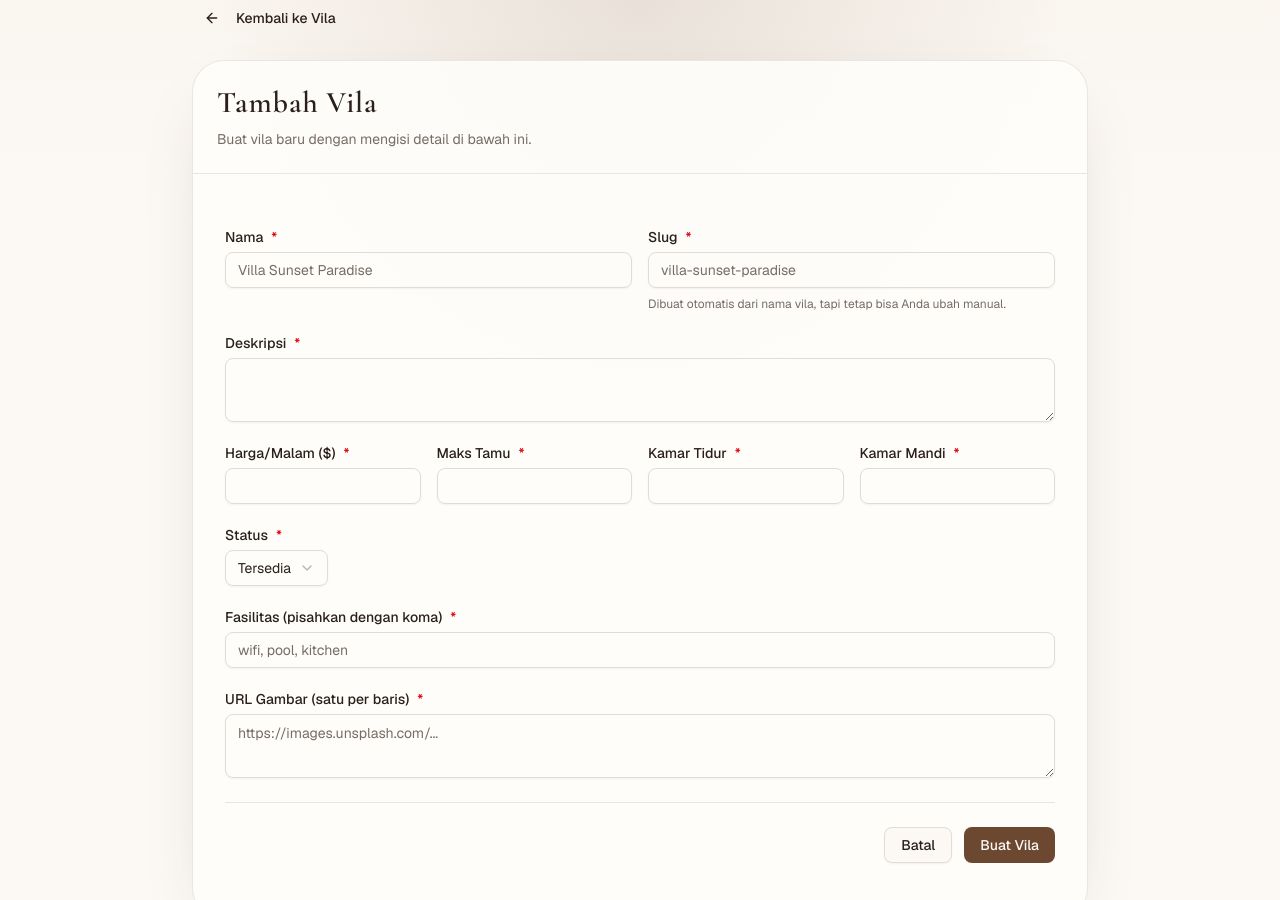
Test: VillaForm › shows feedback when submit is invalid
This screenshot has width=1280, height=900.
Step 1. Click the button "Buat Vila" → (1010, 845), box [964,827,1055,863]
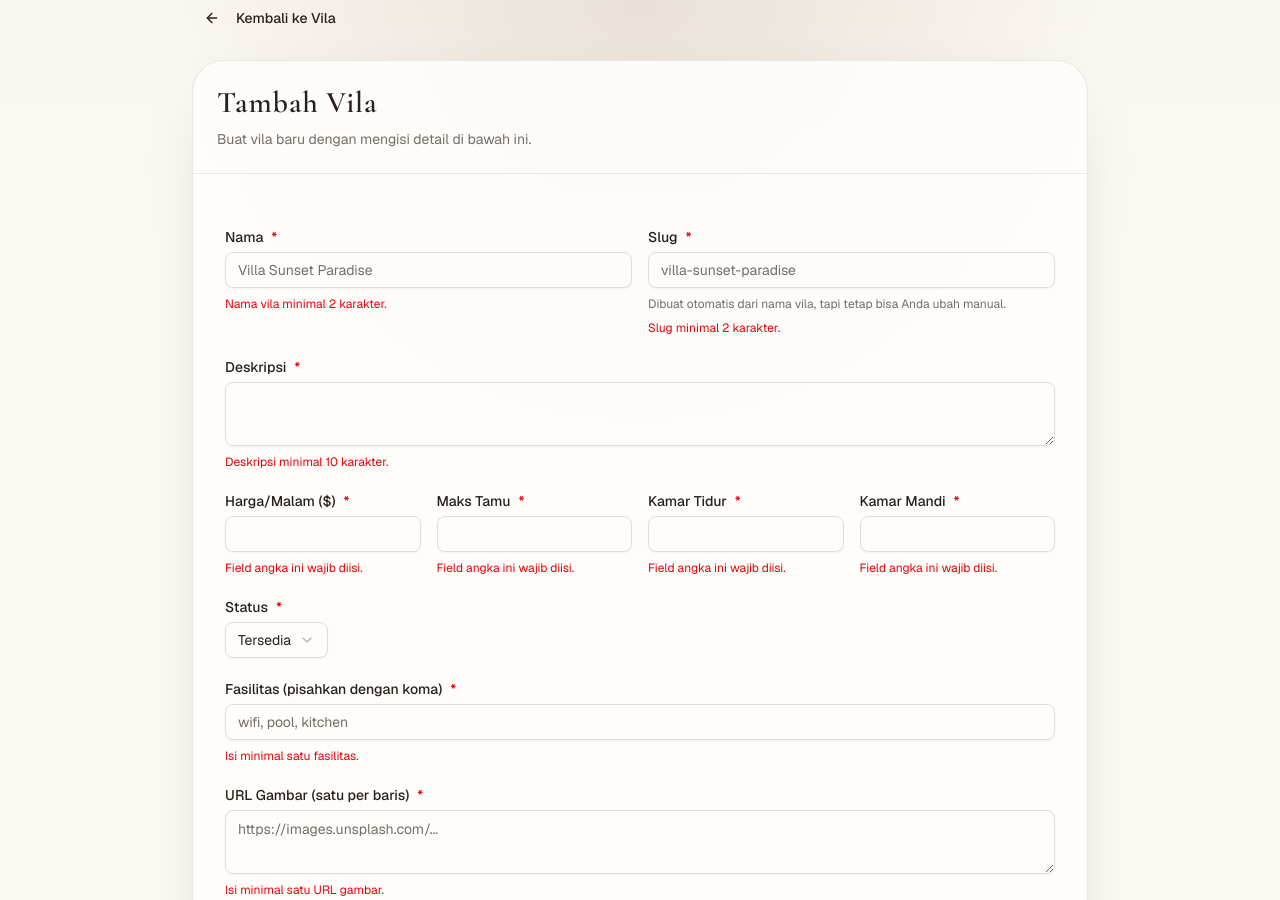
Result: the text "Nama vila minimal 2 karakter." is shown at [225,296,387,312]
Result: the text "Deskripsi minimal 10 karakter." is shown at [225,454,388,470]
